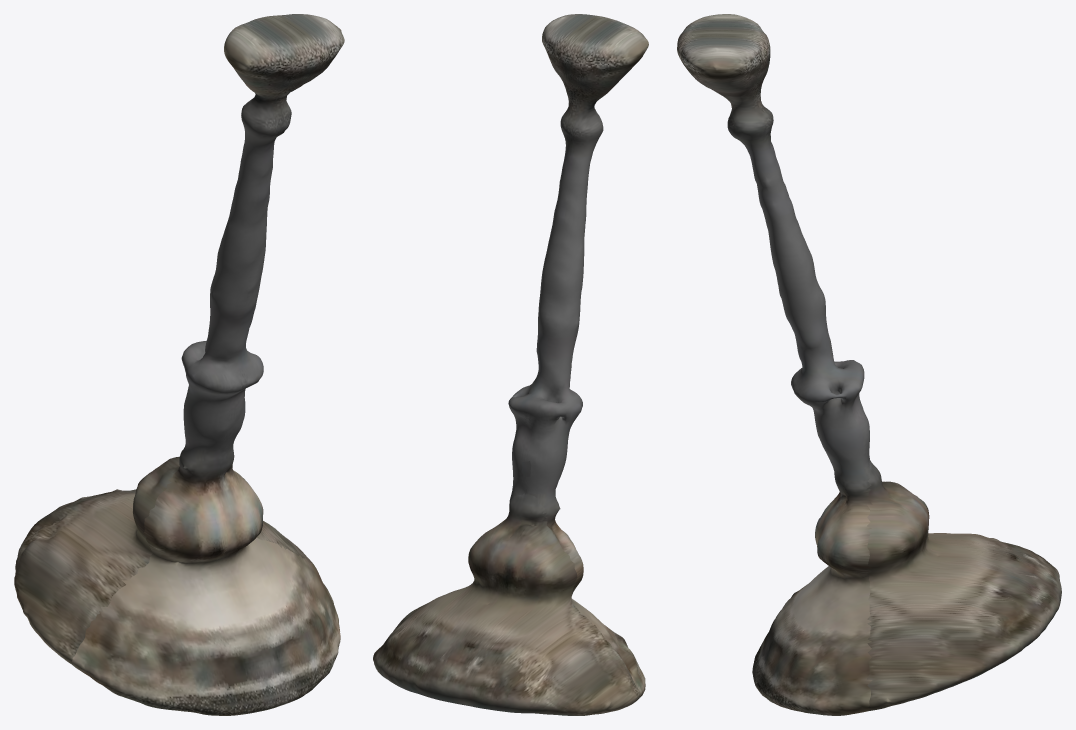
The model's file is kfl-2148.glb.
The picture shows the model from 3 angles, left to right: view 1: azimuth 30°, elevation 25°; view 2: azimuth 150°, elevation 25°; view 3: azimuth 270°, elevation 25°; orthographic projection. The views are drawn at different scales.
Parts seen in each view (by area): view 1: geometry_0; view 2: geometry_0; view 3: geometry_0.
Boxes of the visible parts, x1,y1,x2,y2 form: geometry_0: [14, 14, 344, 715]; geometry_0: [373, 14, 648, 715]; geometry_0: [677, 14, 1061, 715].
Size of the model in its own units: 0.4043 by 0.9963 by 0.5335.
1 material, 1 textured.
